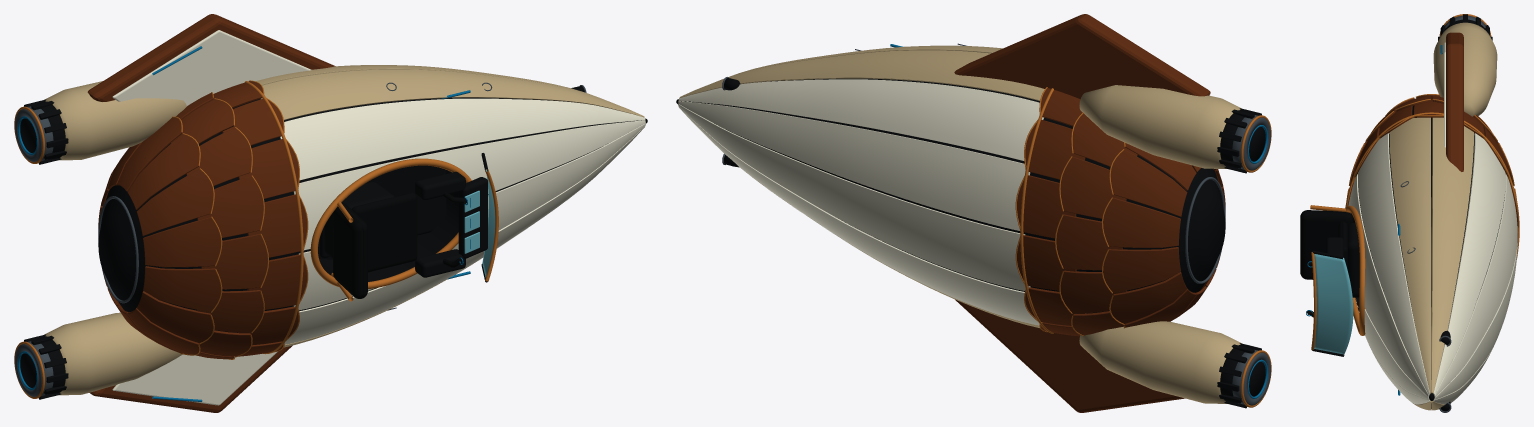
The model's file is AcornShipGripFit.obj.
3 renders of one model, left to right at view 1: azimuth 30°, elevation 25°; view 2: azimuth 150°, elevation 25°; view 3: azimuth 270°, elevation 25°, orthographic. The views are drawn at different scales.
Visible parts, largest first — view 1: SM_AcornShipV2; view 2: SM_AcornShipV2; view 3: SM_AcornShipV2.
Part boxes in pixels (<box>): SM_AcornShipV2: <box>14,14,647,412</box>; SM_AcornShipV2: <box>676,14,1271,412</box>; SM_AcornShipV2: <box>1300,14,1519,412</box>.
Bounding box in the file's own units: 455 × 286 × 163.
